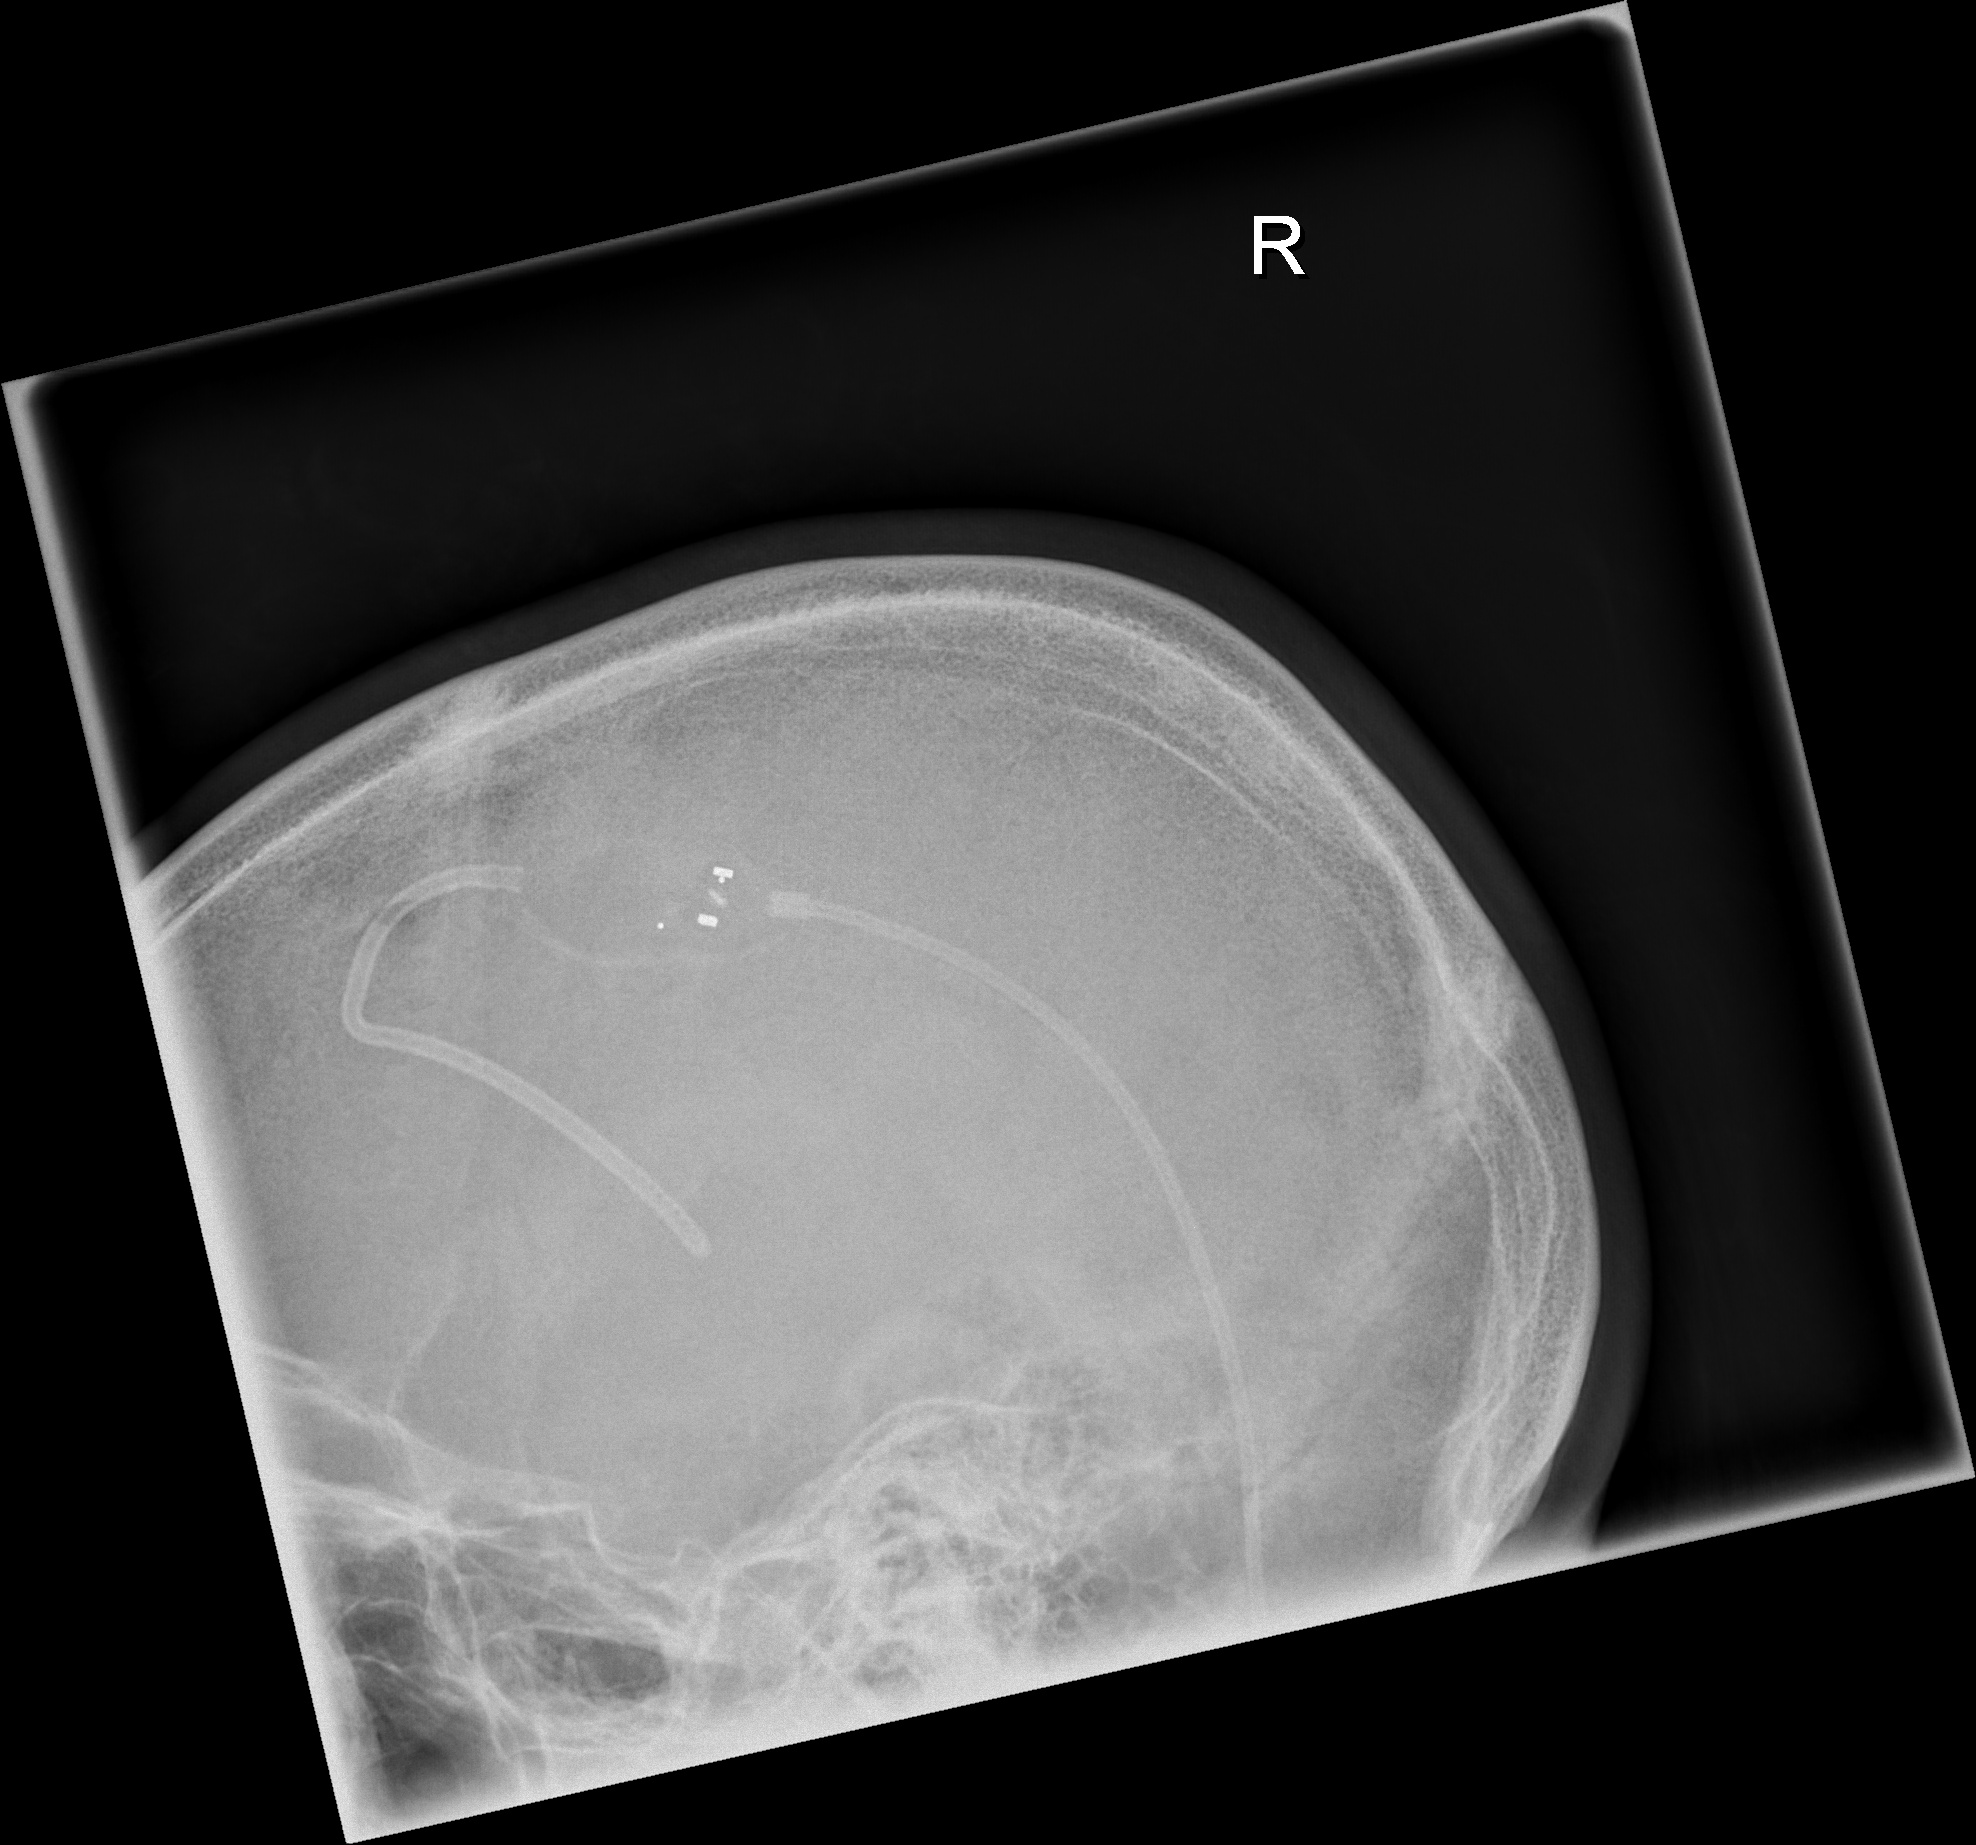Codman Certas: (634, 844, 780, 961)
